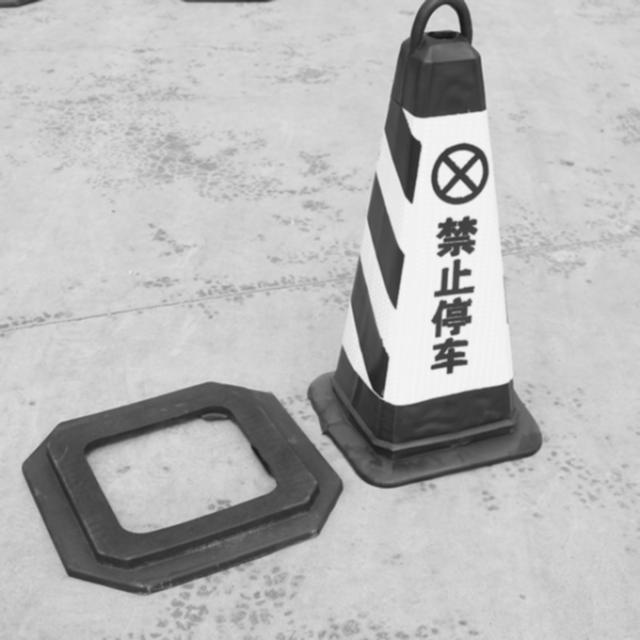reflective_cone: (306, 1, 544, 486)
